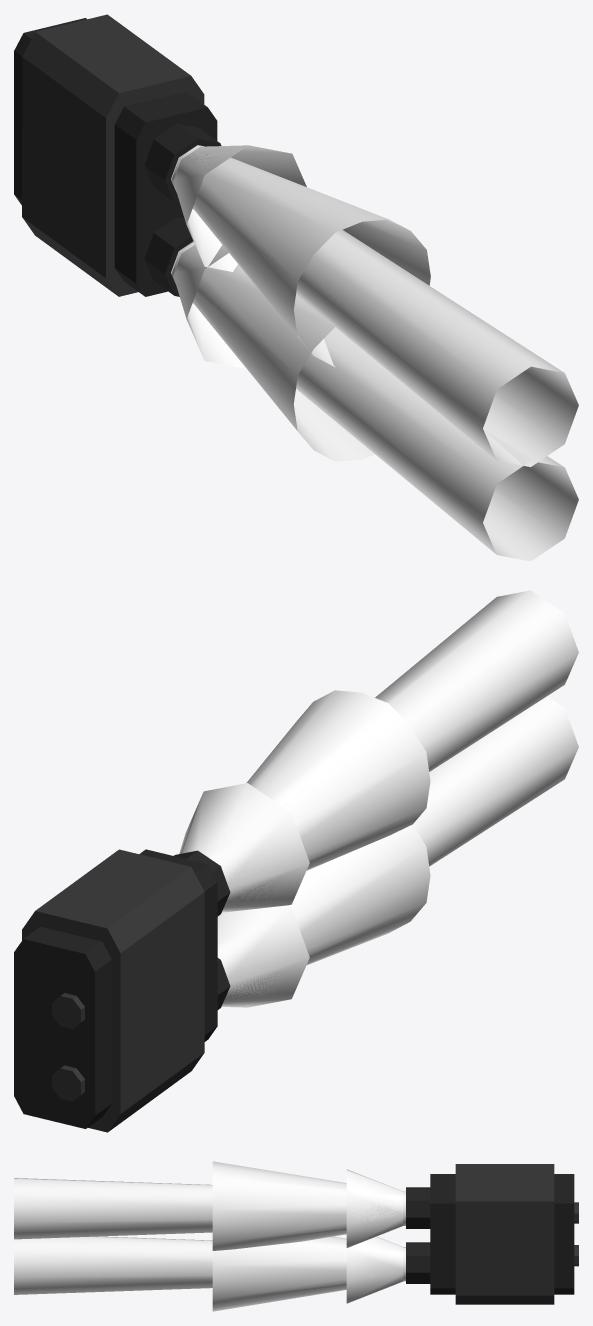
File: Accessories_Flashlight_B.FBX
The picture shows the model from 3 angles, top to bottom: view 1: azimuth 30°, elevation 25°; view 2: azimuth 150°, elevation 25°; view 3: azimuth 270°, elevation 25°; orthographic projection. The views are drawn at different scales.
Parts seen in each view (by area): view 1: Flashlight_Light_B, Accessories_Flashlight_B; view 2: Flashlight_Light_B, Accessories_Flashlight_B; view 3: Flashlight_Light_B, Accessories_Flashlight_B.
Boxes of the visible parts, x1,y1,x2,y2 form: Flashlight_Light_B: [171, 145, 578, 561]; Accessories_Flashlight_B: [14, 14, 221, 296]; Flashlight_Light_B: [179, 590, 578, 1007]; Accessories_Flashlight_B: [14, 849, 230, 1132]; Flashlight_Light_B: [14, 1161, 405, 1311]; Accessories_Flashlight_B: [406, 1164, 578, 1304].
Bounding box in the file's own units: 26.93 × 44.63 × 163.
